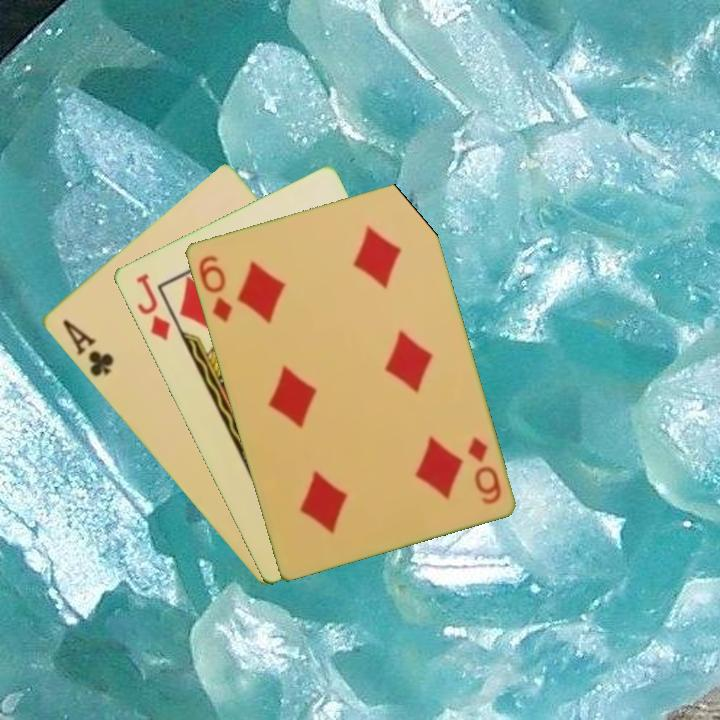6d: (194, 251, 235, 325), (463, 433, 504, 507)
Ac: (58, 315, 116, 380)
Jd: (131, 270, 173, 343)
